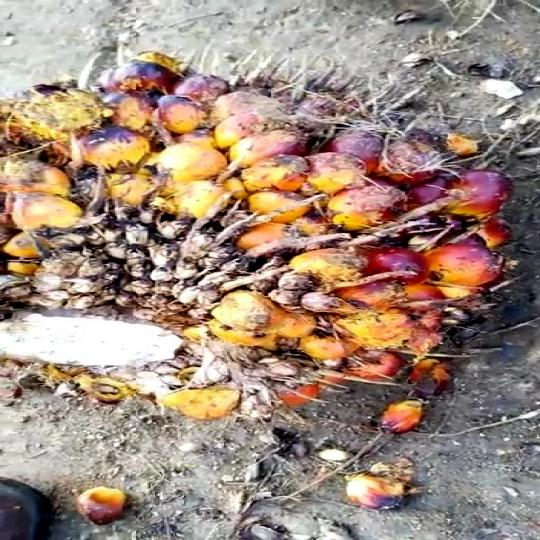masak: (0, 49, 540, 455)
